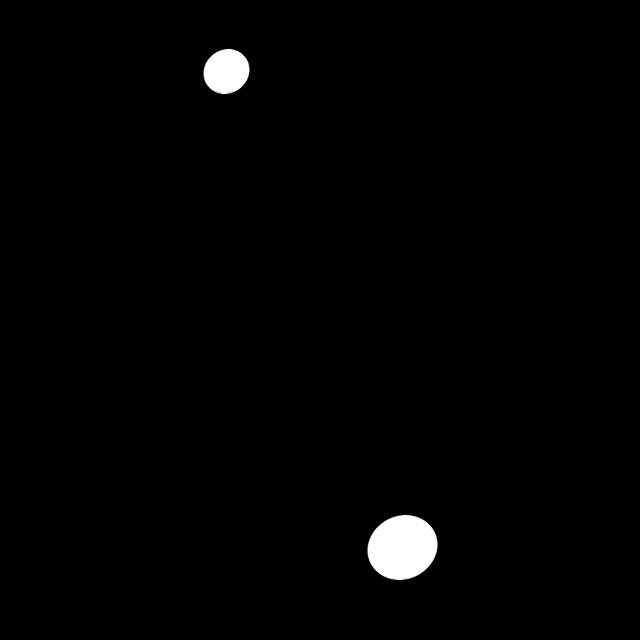Circle: (357, 502, 446, 595), (200, 39, 256, 100)
